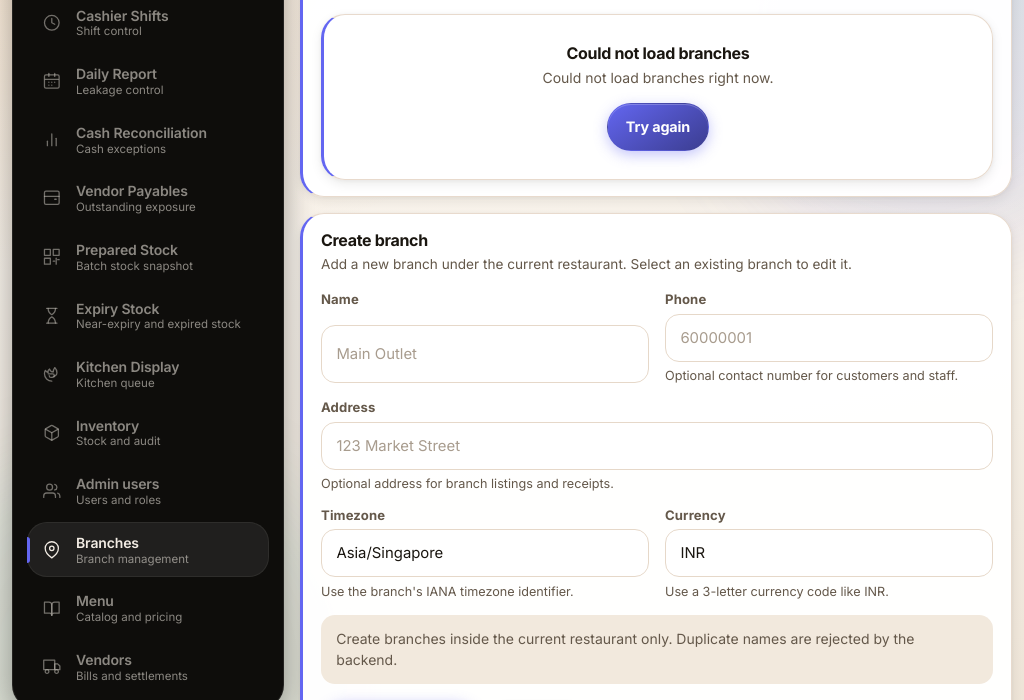
Test: BranchManagementPage › shows a clean duplicate-branch error when create fails with RFC7807 JSON
(page scrolled)
Type "  Main Branch  " into the field with placeholder "Main Outlet" at (485, 354), box [321,324,649,383]
(page scrolled)
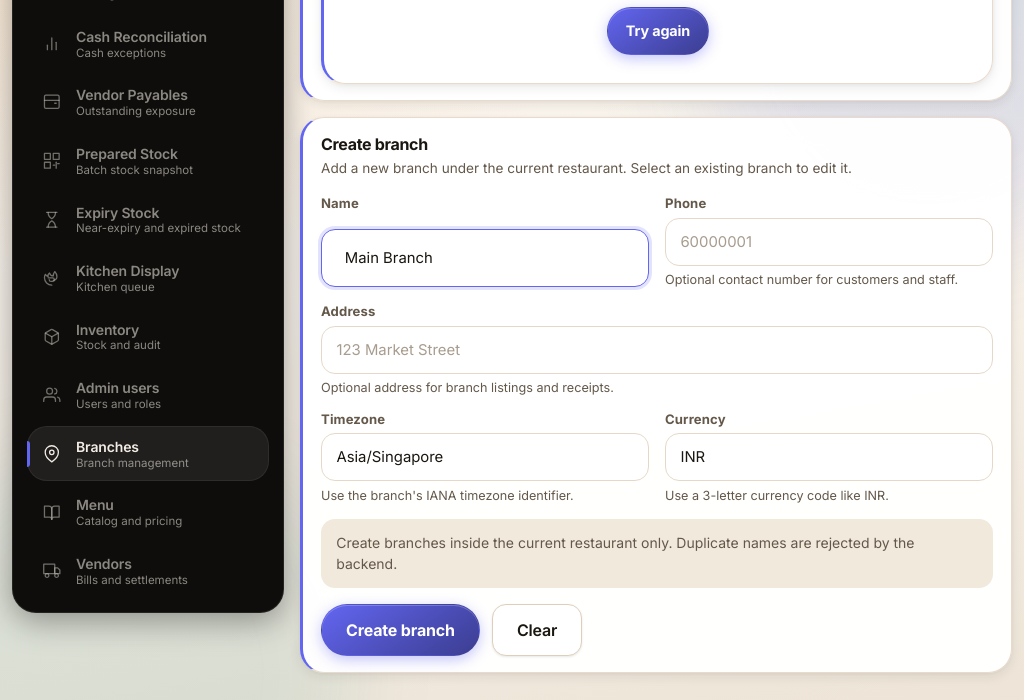
Click the button "Create branch" at (400, 630), box [321,604,480,656]
(page scrolled)
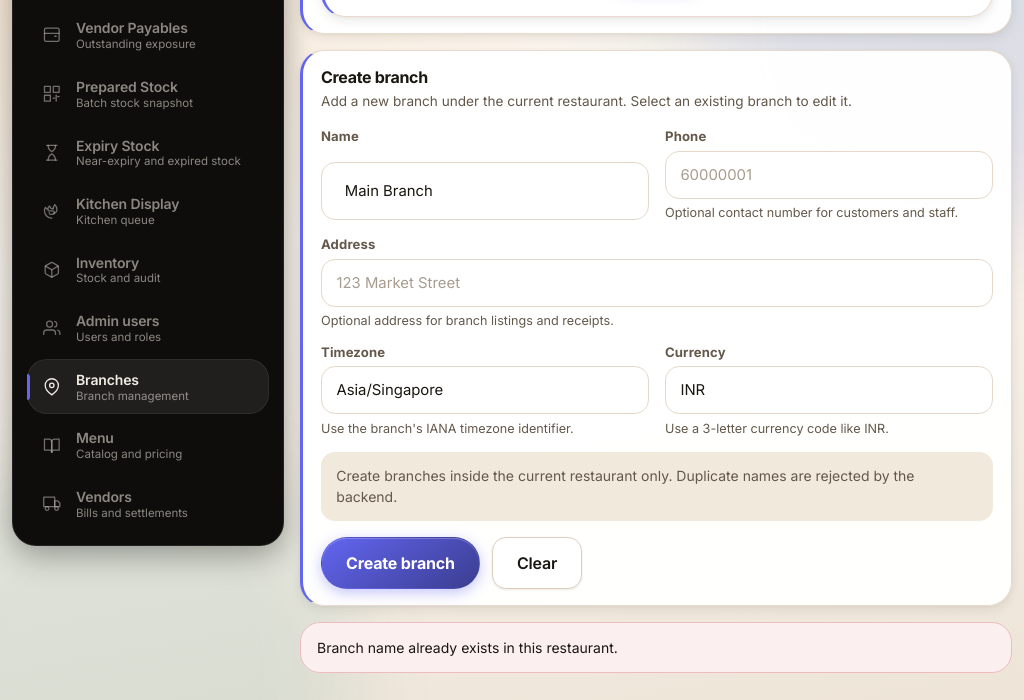
Expected: the message reads "Branch name already exists in this restaurant.", [317,639,618,656]
